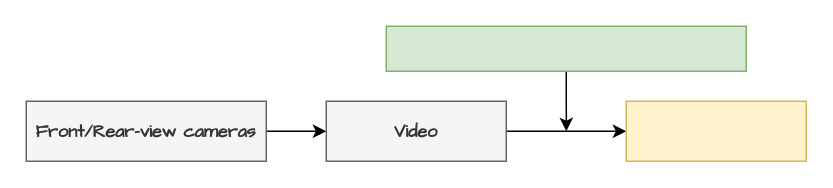
This 833x188 diagram has some shape labels left out. Here are the shapes that lost their labels. From the top down, the centre of each, then its label:
At pixel 565 48: "Vehicle detection and tracking algorithm".
At pixel 715 130: "Snapshot records".
